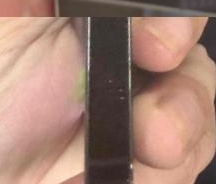scratch: (103, 67, 152, 184)
